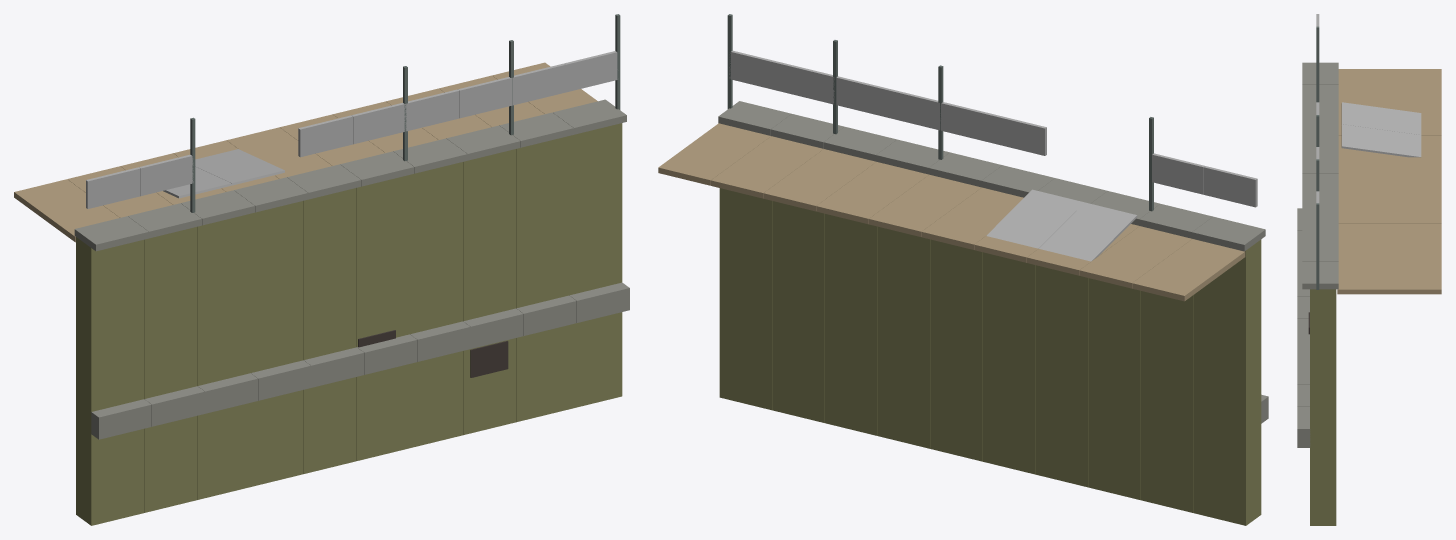
Rendered from SM_MuroRampa_v0_Alto_e1_Danado_LOD1.fbx.
3 renders of one model, left to right at view 1: azimuth 30°, elevation 25°; view 2: azimuth 150°, elevation 25°; view 3: azimuth 270°, elevation 25°, orthographic. The views are drawn at different scales.
Parts seen in each view (by area): view 1: SM_muro_rampa_v1_LOD1; view 2: SM_muro_rampa_v1_LOD1; view 3: SM_muro_rampa_v1_LOD1.
Part boxes in pixels (left/top/right/bottom): SM_muro_rampa_v1_LOD1: left=14, top=14, right=629, bottom=525; SM_muro_rampa_v1_LOD1: left=658, top=14, right=1268, bottom=525; SM_muro_rampa_v1_LOD1: left=1297, top=14, right=1441, bottom=525.
Size of the model in its own units: 10.03 by 6.8 by 2.77.
